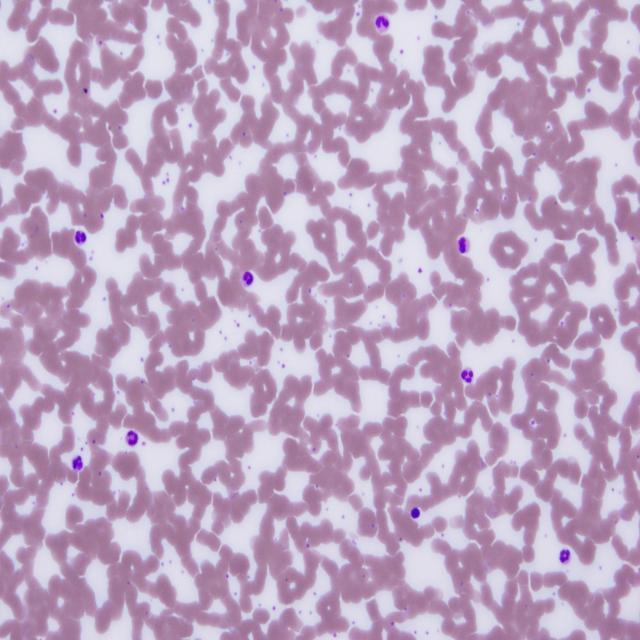cell: (241, 271, 254, 287)
